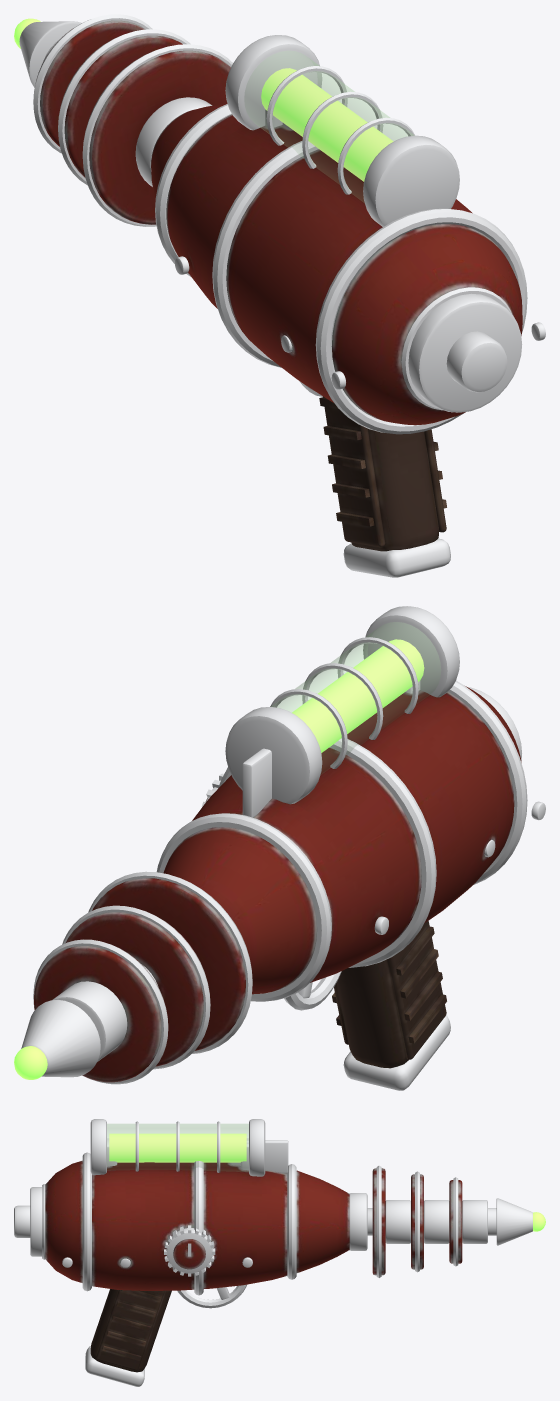
The model's file is raygun-BEuADc27.glb.
3 views of the same model, one above another, from view 1: azimuth 30°, elevation 25°; view 2: azimuth 150°, elevation 25°; view 3: azimuth 270°, elevation 25° (orthographic). The views are drawn at different scales.
Parts seen in each view (by area): view 1: RayGun, Cell; view 2: RayGun, Cell; view 3: RayGun, Cell.
Boxes of the visible parts, x1,y1,x2,y2 form: RayGun: [14, 14, 545, 577]; Cell: [225, 35, 459, 226]; RayGun: [14, 680, 545, 1090]; Cell: [225, 606, 459, 804]; RayGun: [14, 1138, 545, 1386]; Cell: [90, 1119, 265, 1176].
Size of the model in its own units: 0.1319 by 0.245 by 0.4575.
5 materials, 1 textured.
